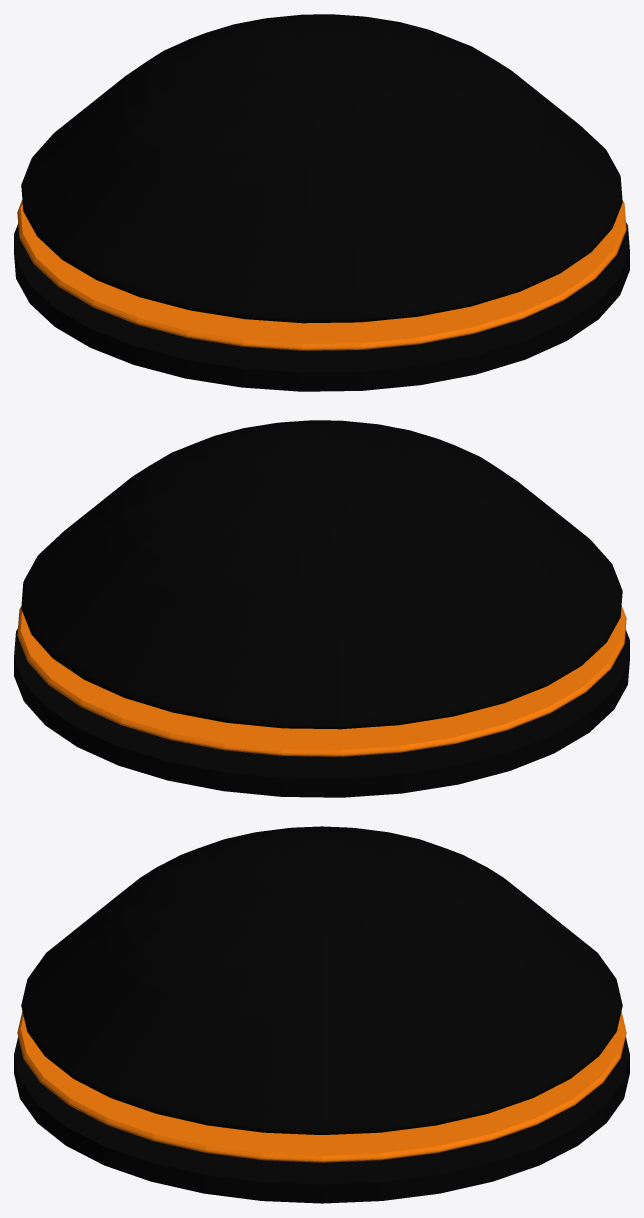
The model's file is socle2.obj.
3 renders of one model, top to bottom at view 1: azimuth 30°, elevation 25°; view 2: azimuth 150°, elevation 25°; view 3: azimuth 270°, elevation 25°, orthographic.
Visible parts, largest first — view 1: Cylindre, Cylindre.001; view 2: Cylindre, Cylindre.001; view 3: Cylindre, Cylindre.001.
Boxes of the visible parts, x1,y1,x2,y2 form: Cylindre: (14, 14, 629, 391); Cylindre.001: (17, 200, 626, 350); Cylindre: (14, 420, 629, 797); Cylindre.001: (17, 606, 626, 756); Cylindre: (14, 826, 629, 1203); Cylindre.001: (17, 1011, 626, 1162).
Size of the model in its own units: 2 by 0.7186 by 2.
